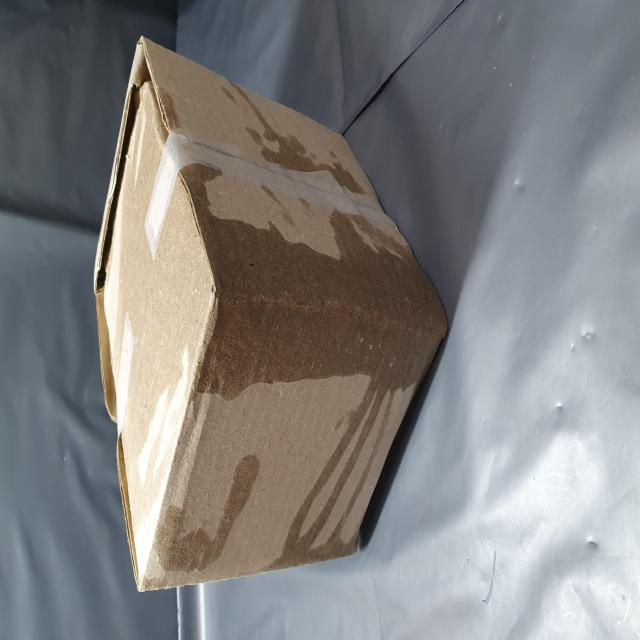wet: (101, 176, 294, 640)
